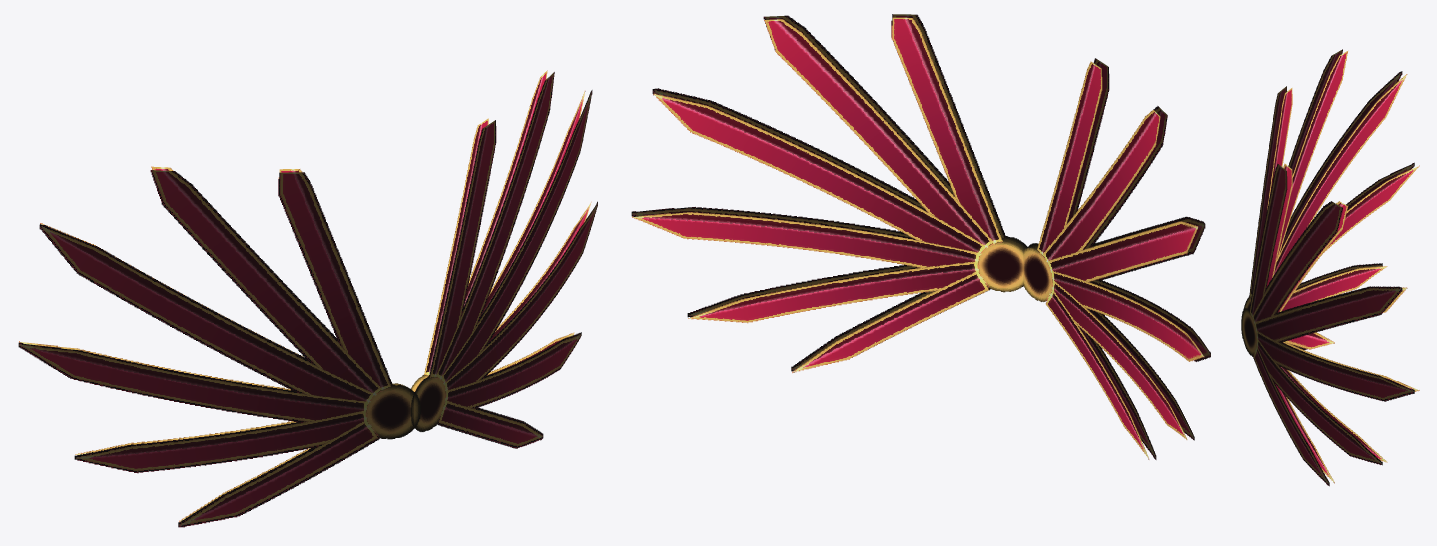
The model's file is owner_crimson_blades_wings.glb.
3 views of the same model, side by side, from view 1: azimuth 30°, elevation 25°; view 2: azimuth 150°, elevation 25°; view 3: azimuth 270°, elevation 25° (orthographic). The views are drawn at different scales.
Visible parts, largest first — view 1: Owner Crimson Blade Wings Wing Right, Owner Crimson Blade Wings Wing Left; view 2: Owner Crimson Blade Wings Wing Left, Owner Crimson Blade Wings Wing Right; view 3: Owner Crimson Blade Wings Wing Left, Owner Crimson Blade Wings Wing Right.
Part boxes in pixels (x1,y1,x2,y2): Owner Crimson Blade Wings Wing Right: [18, 166, 420, 527]; Owner Crimson Blade Wings Wing Left: [410, 70, 597, 448]; Owner Crimson Blade Wings Wing Left: [631, 14, 1027, 373]; Owner Crimson Blade Wings Wing Right: [1023, 58, 1210, 459]; Owner Crimson Blade Wings Wing Left: [1241, 163, 1419, 486]; Owner Crimson Blade Wings Wing Right: [1241, 49, 1419, 350].
Size of the model in its own units: 1.98 by 1.17 by 0.6652.
Materials: 2 (2 with a texture image).
